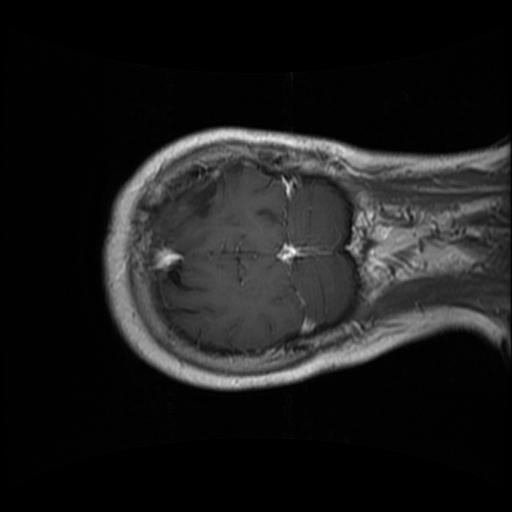glioma: (175, 172, 218, 223)
